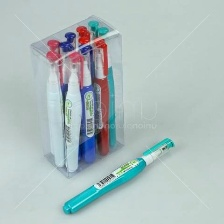correction_fluid: (61, 136, 178, 217), (62, 51, 86, 175), (94, 26, 117, 147), (44, 56, 66, 169), (77, 42, 97, 166), (93, 35, 111, 158)
plastic_box: (26, 12, 126, 182)
